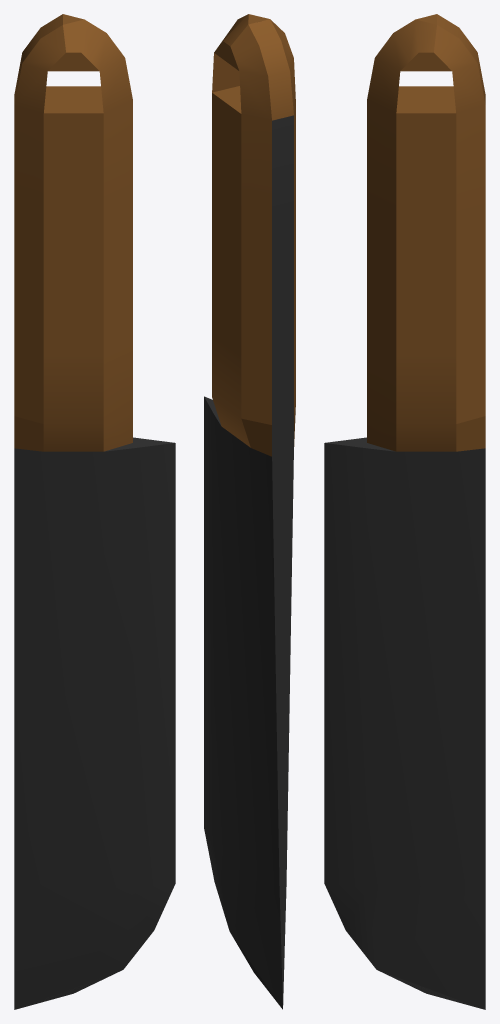
File: decor_knife1.fbx
3 renders of one model, left to right at view 1: azimuth 90°, elevation 25°; view 2: azimuth 210°, elevation 25°; view 3: azimuth 270°, elevation 25°, orthographic. The views are drawn at different scales.
Visible parts, largest first — view 1: decor_knife1; view 2: decor_knife1; view 3: decor_knife1.
Part boxes in pixels (<box>): decor_knife1: <box>14,14,175,1009</box>; decor_knife1: <box>204,14,295,1009</box>; decor_knife1: <box>324,14,485,1009</box>.
Bounding box in the file's own units: 2.16 × 36.81 × 5.43.
